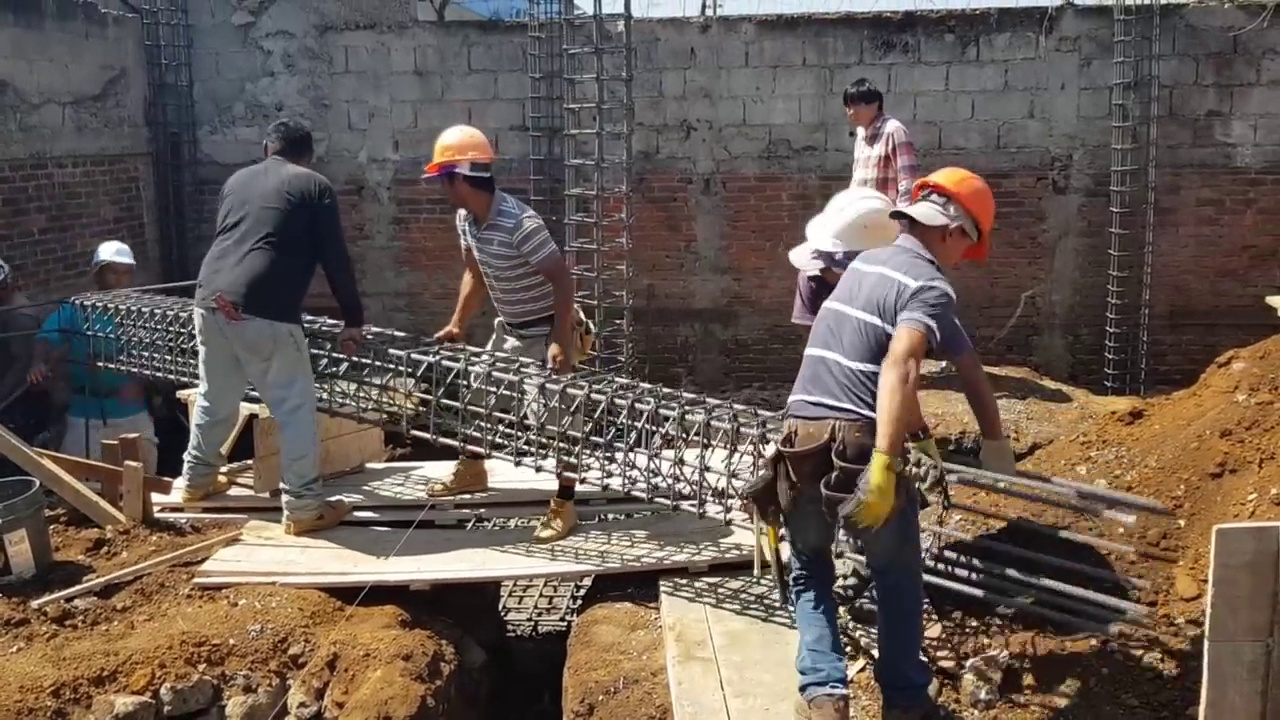helmet: (908, 162, 995, 264), (808, 192, 903, 259), (416, 123, 500, 170), (86, 236, 142, 266)
helmet-off: (259, 122, 313, 172), (846, 77, 888, 127)
helmet-on: (888, 163, 996, 274), (791, 186, 902, 293), (417, 125, 499, 218), (87, 236, 140, 292)
person: (778, 160, 1004, 688), (187, 102, 374, 539), (416, 133, 587, 517), (28, 236, 159, 469), (830, 78, 922, 202)
